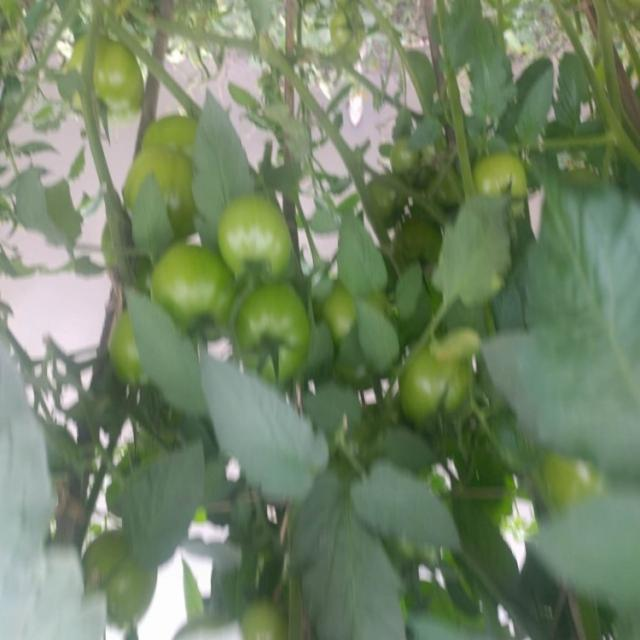tomato: (138, 236, 229, 341), (201, 191, 289, 289), (117, 142, 208, 226), (223, 287, 313, 366), (392, 343, 477, 422), (78, 27, 141, 126), (467, 142, 541, 216), (102, 295, 157, 390), (144, 107, 205, 174), (365, 167, 414, 228)
